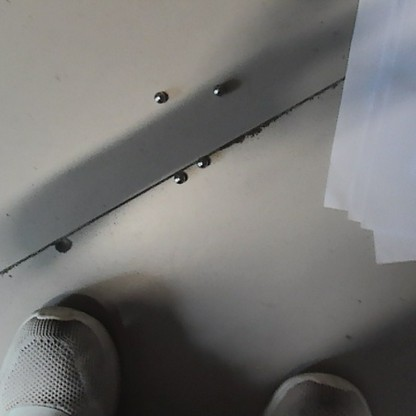ironball: (193, 151, 211, 169), (208, 81, 225, 99), (170, 169, 186, 186), (152, 90, 167, 105)
